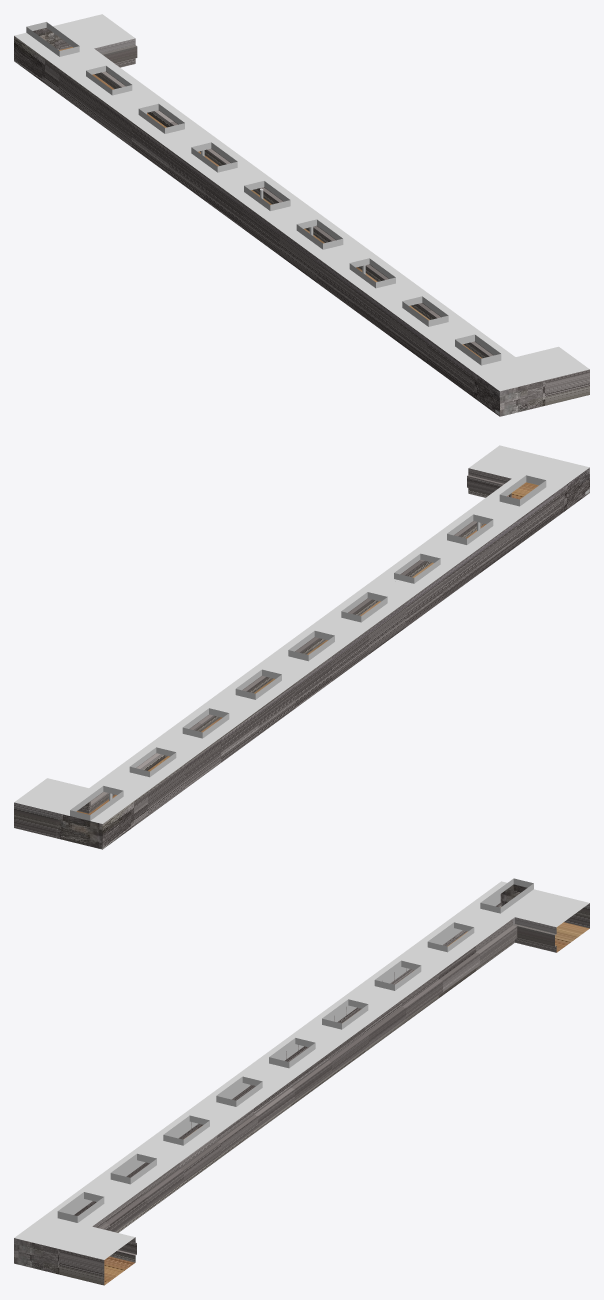
The model's file is Museo3.glb.
3 views of the same model, one above another, from view 1: azimuth 30°, elevation 25°; view 2: azimuth 150°, elevation 25°; view 3: azimuth 330°, elevation 25° (orthographic).
Visible parts, largest first — view 1: Cube; view 2: Cube; view 3: Cube.
Part boxes in pixels (bbox=[...]): Cube: bbox=[14, 14, 589, 416]; Cube: bbox=[14, 445, 589, 849]; Cube: bbox=[14, 878, 589, 1285].
Size of the model in its own units: 12.23 by 4.2 by 114.
7 materials, 4 textured.
